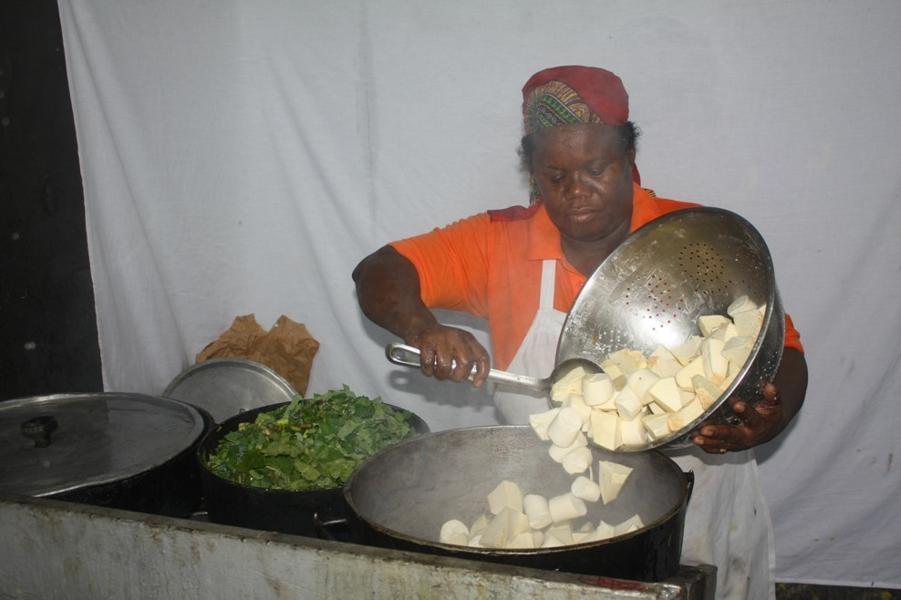person: (350, 65, 811, 600)
